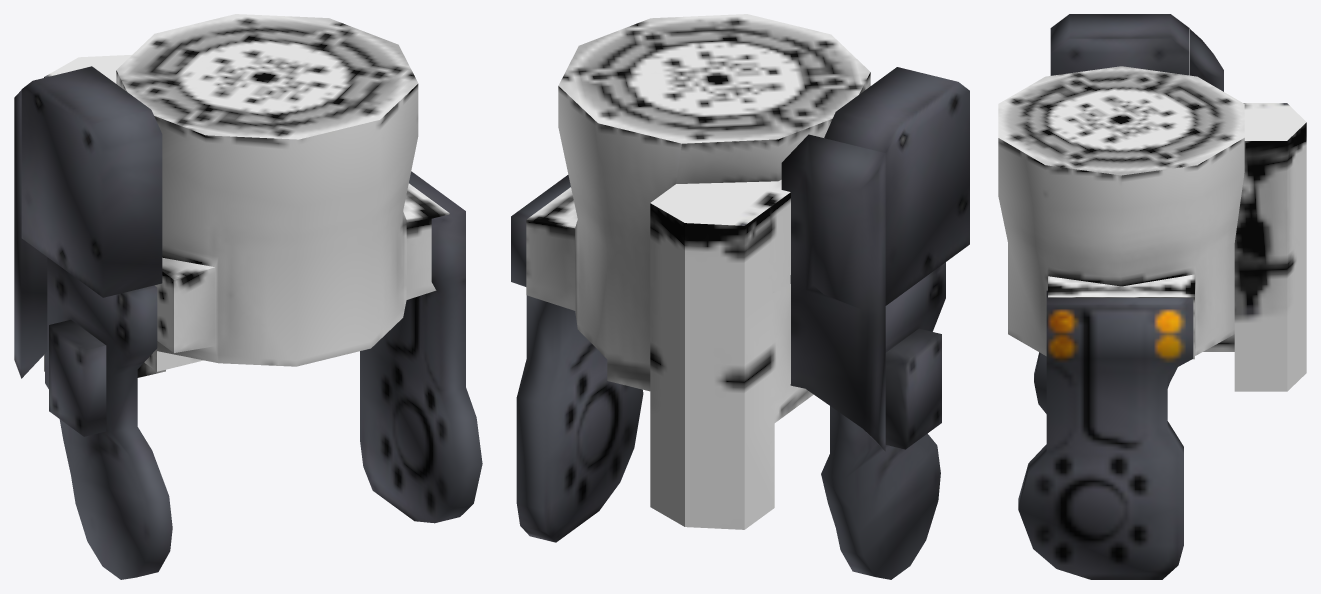
The model's file is l_larm.obj.
3 renders of one model, left to right at view 1: azimuth 30°, elevation 25°; view 2: azimuth 150°, elevation 25°; view 3: azimuth 270°, elevation 25°, orthographic. The views are drawn at different scales.
Visible parts, largest first — view 1: l_larm; view 2: l_larm; view 3: l_larm.
Boxes of the visible parts, bbox=[...] form: l_larm: bbox=[14, 14, 482, 579]; l_larm: bbox=[511, 14, 969, 579]; l_larm: bbox=[998, 14, 1306, 579].
Bounding box in the file's own units: 0.1433 × 0.1854 × 0.1246.
